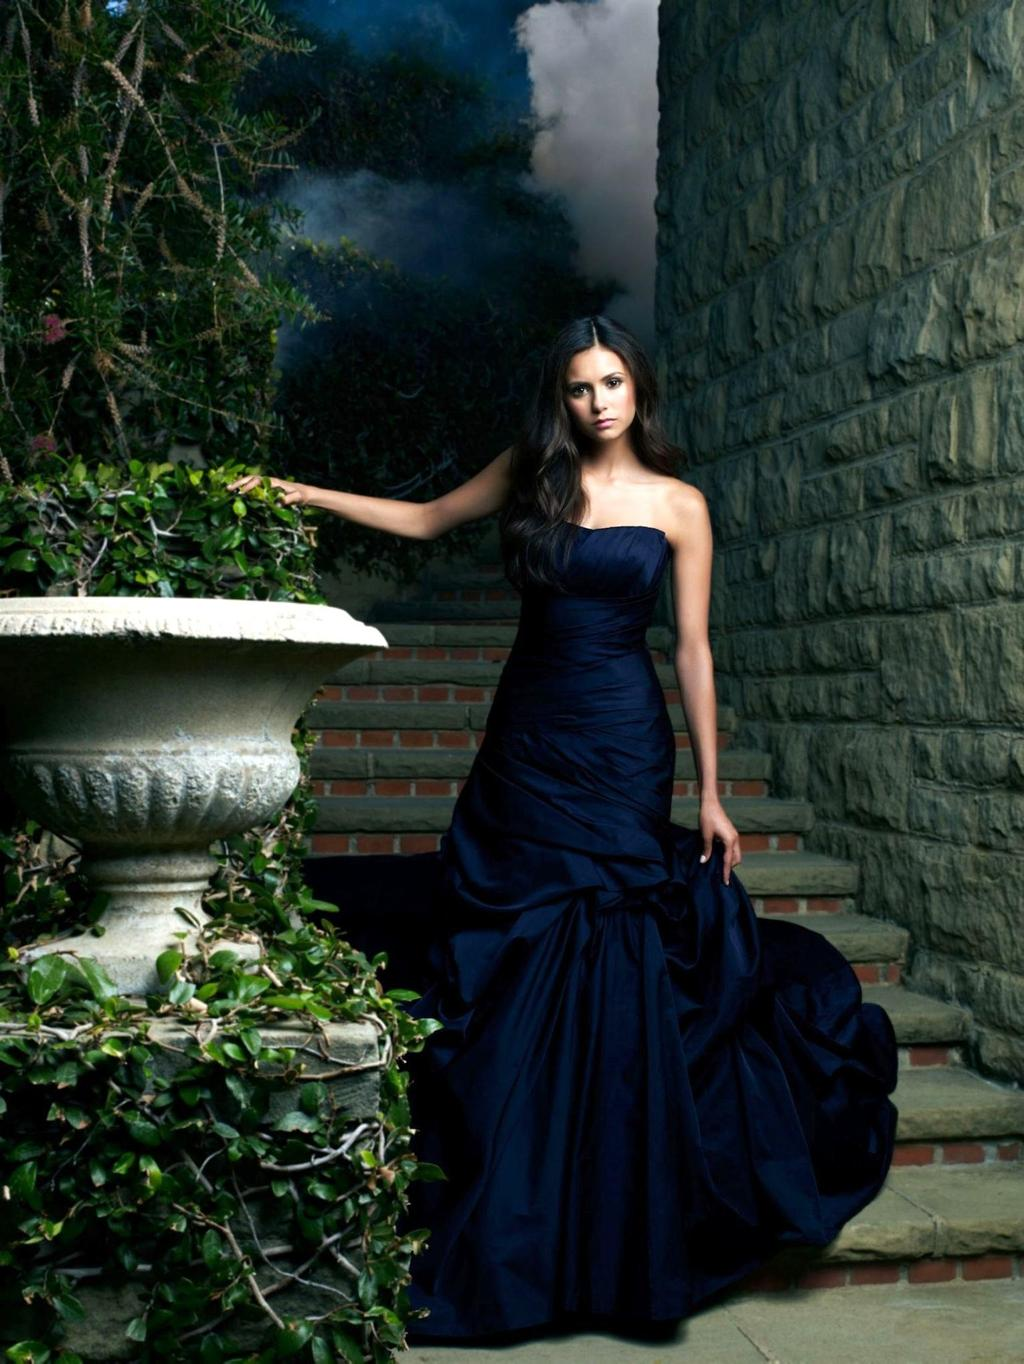face: (564, 348, 633, 438)
